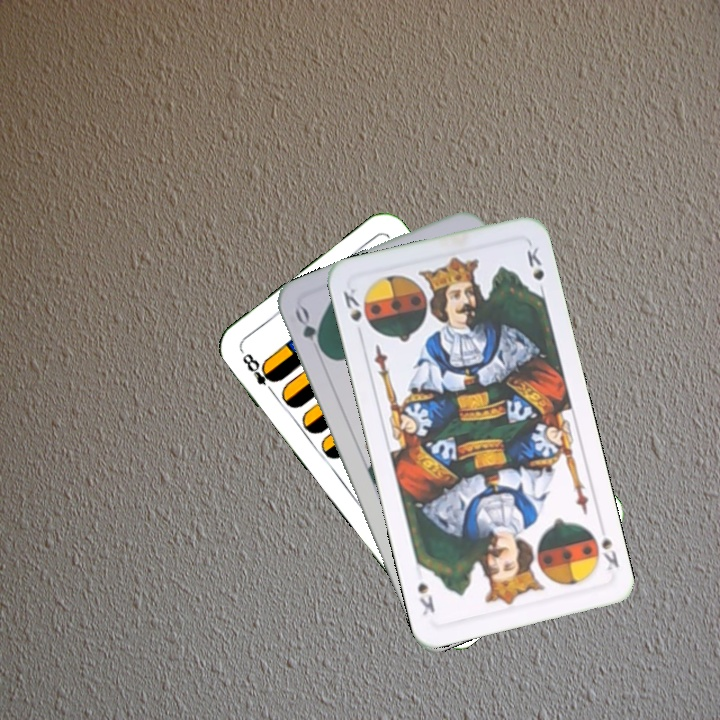E8: (238, 349, 280, 398)
GO: (290, 303, 329, 359)
SK: (339, 283, 365, 341), (597, 533, 622, 573)
